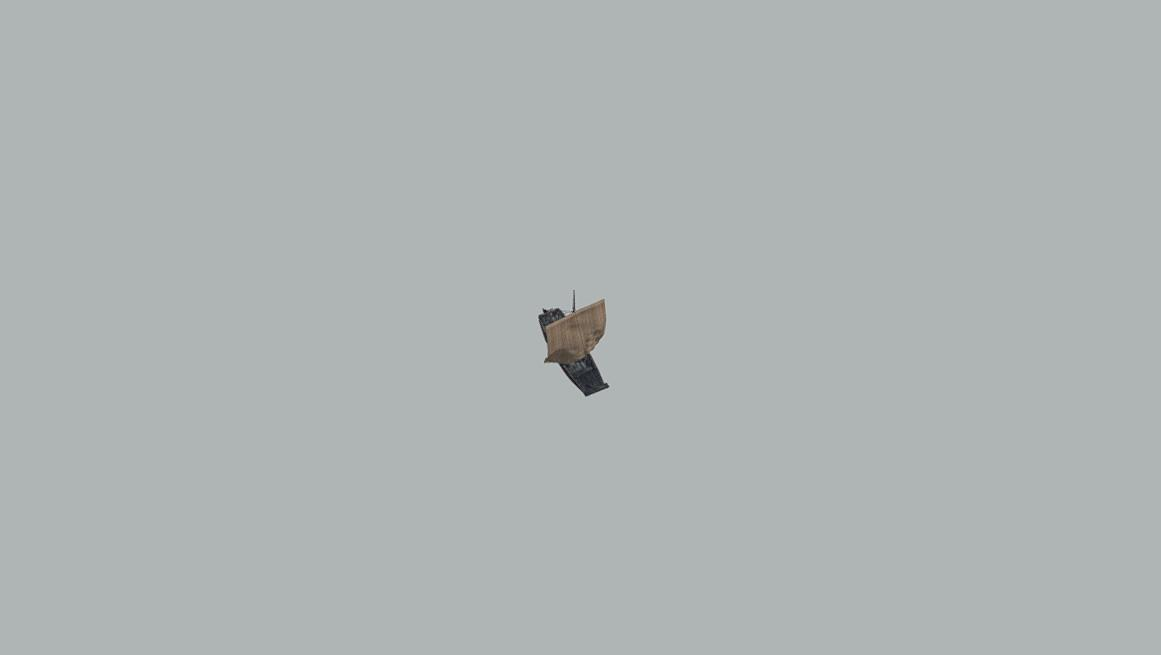Boat: (537, 288, 610, 397)
